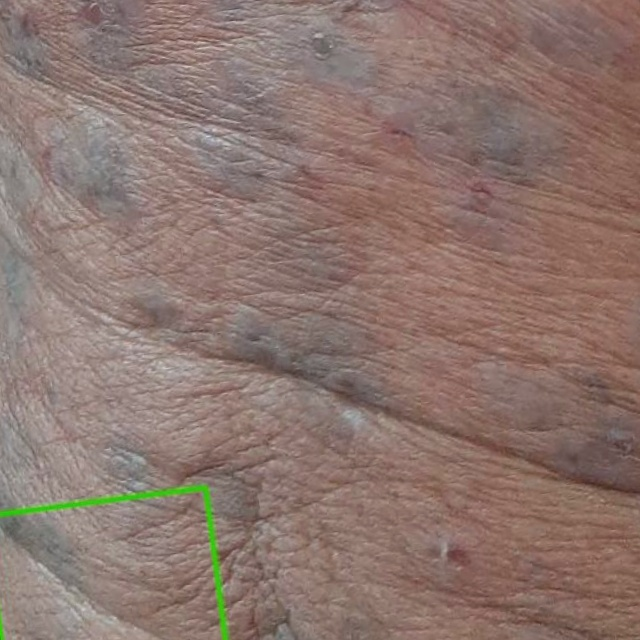Contact Dermatitis: (0, 487, 225, 639)
